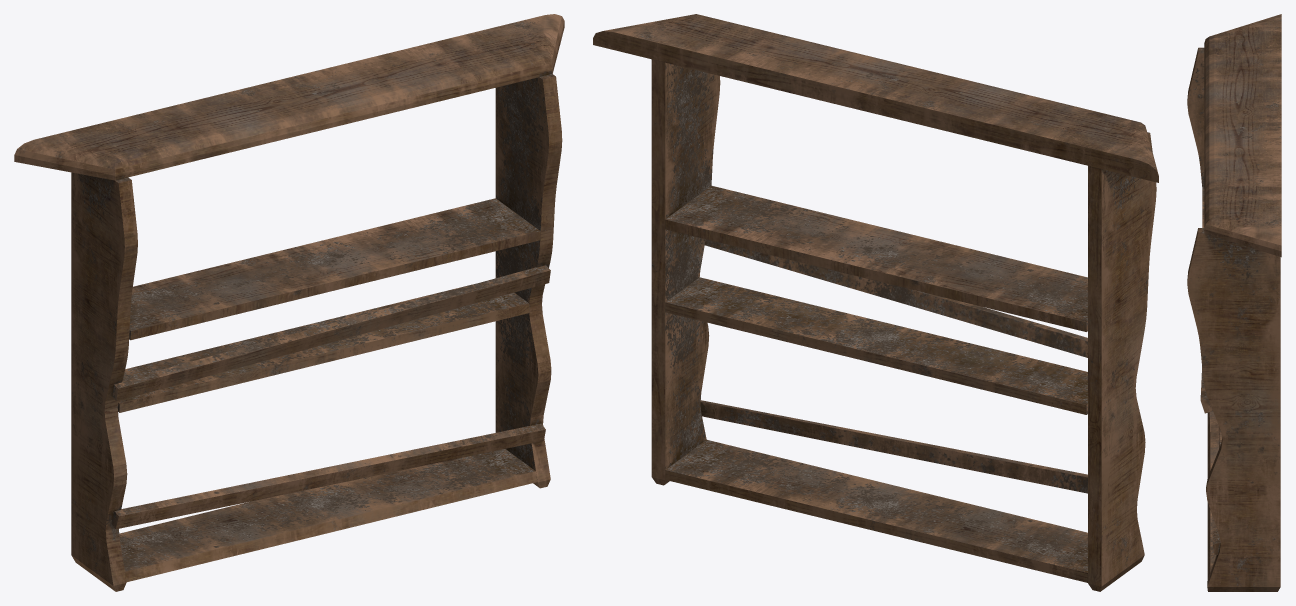
File: Simple ShelfTX.fbx
3 views of the same model, side by side, from view 1: azimuth 30°, elevation 25°; view 2: azimuth 150°, elevation 25°; view 3: azimuth 270°, elevation 25° (orthographic). The views are drawn at different scales.
Visible parts, largest first — view 1: Simple Shelf; view 2: Simple Shelf; view 3: Simple Shelf.
Boxes of the visible parts, x1,y1,x2,y2 form: Simple Shelf: [14, 14, 564, 591]; Simple Shelf: [593, 14, 1158, 591]; Simple Shelf: [1187, 14, 1281, 591].
Size of the model in its own units: 1996 by 1494 by 340.
1 material, 1 textured.
